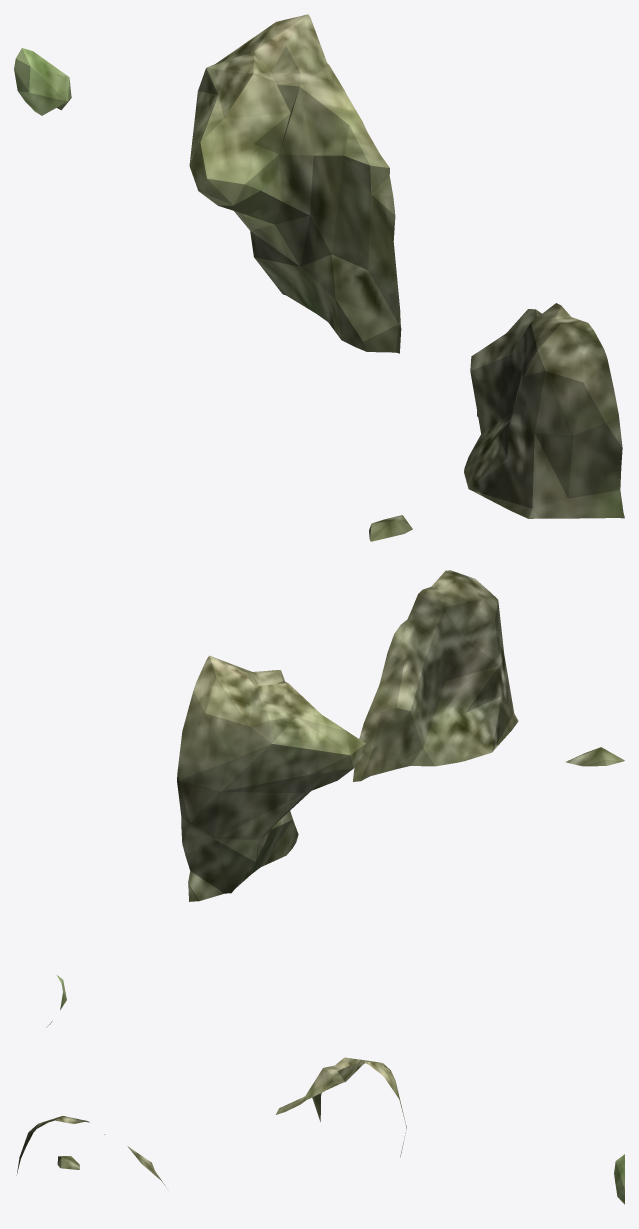
The picture shows the model from 3 angles, top to bottom: view 1: azimuth 30°, elevation 25°; view 2: azimuth 150°, elevation 25°; view 3: azimuth 270°, elevation 25°; orthographic projection. The views are drawn at different scales.
Size of the model in its own units: 1.27 by 1.54 by 5.62.
Materials: 1 (1 with a texture image).
